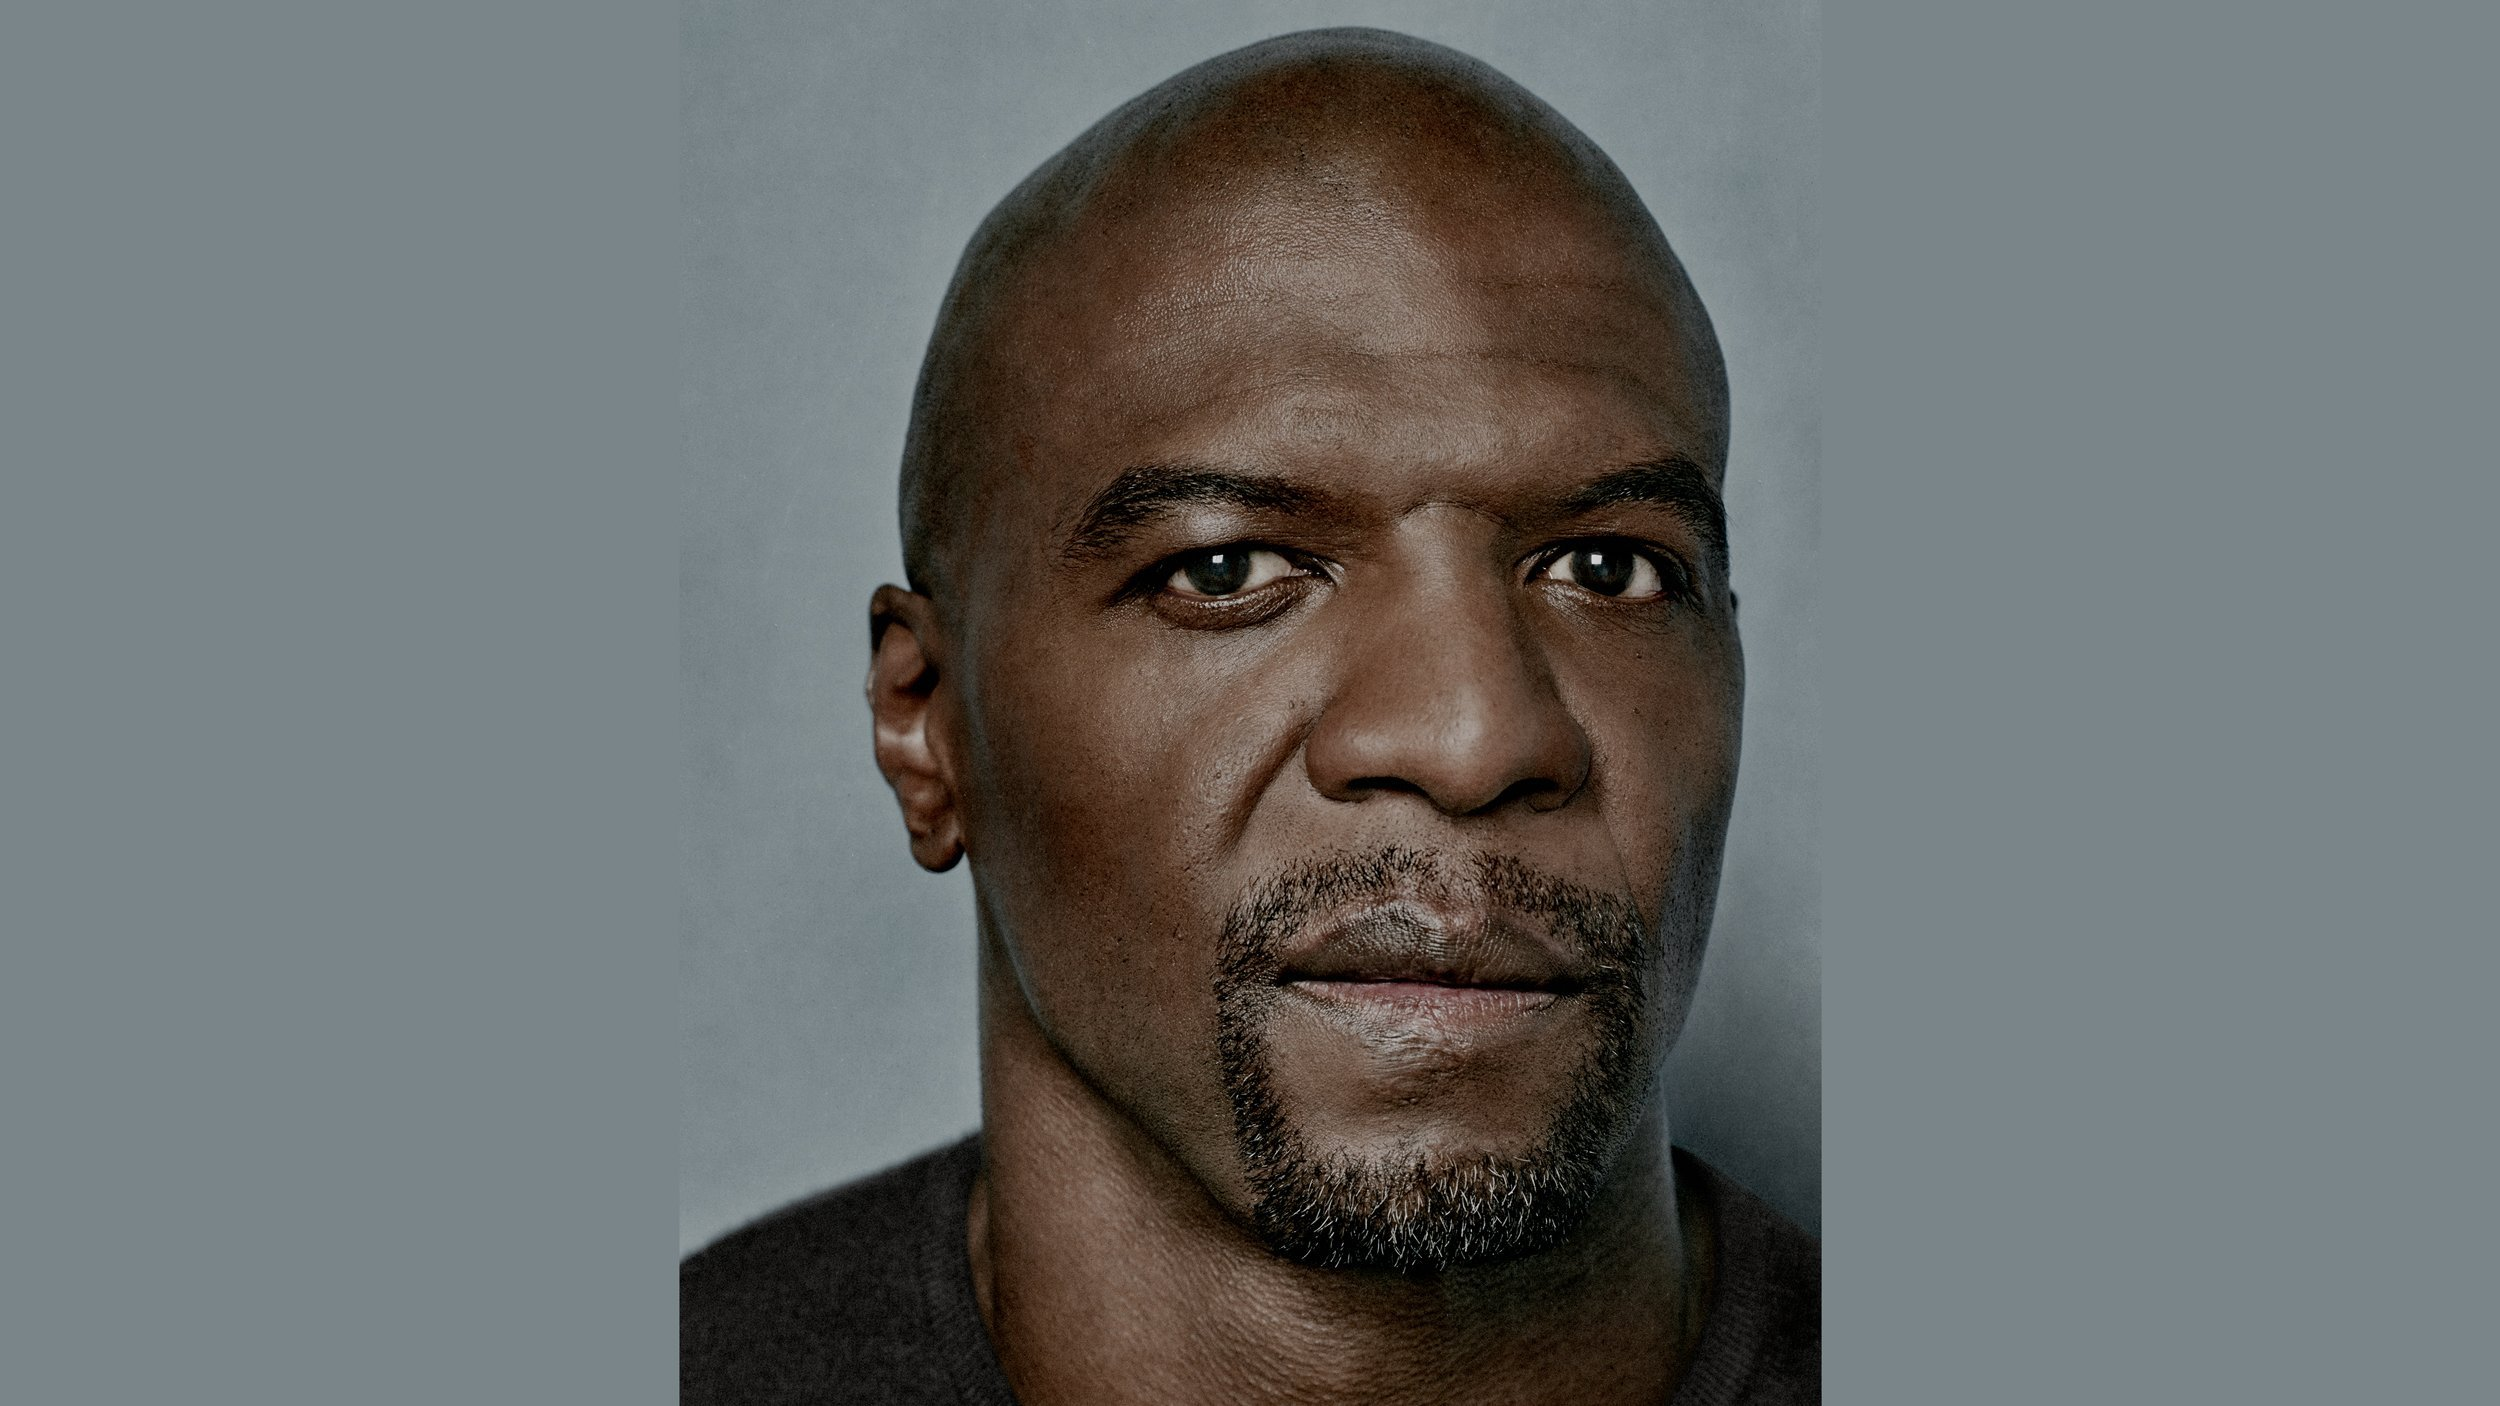noMask: (791, 2, 1830, 1277)
